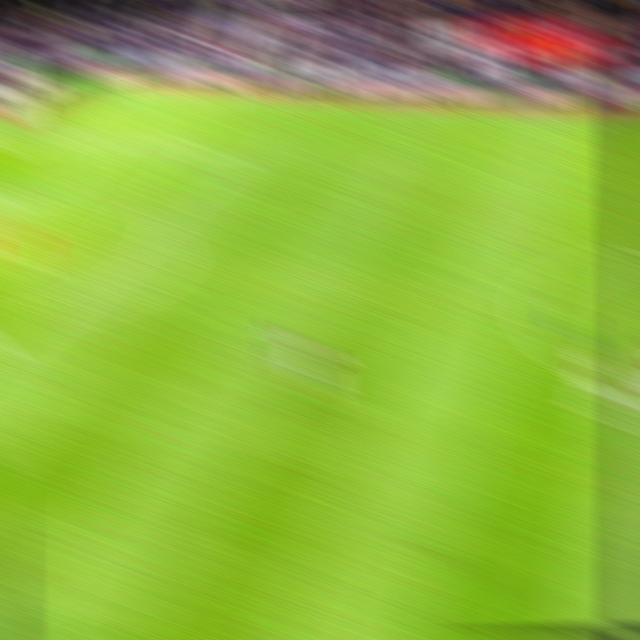bigarea_top_inner: (201, 136, 240, 167)
bigarea_top_outter: (11, 119, 49, 145)
bottom_arc_area_intersection: (22, 299, 62, 331)
corner: (89, 72, 131, 95)
smallarea_top_inner: (0, 176, 36, 202)
top_arc_area_intersection: (134, 200, 173, 227)
